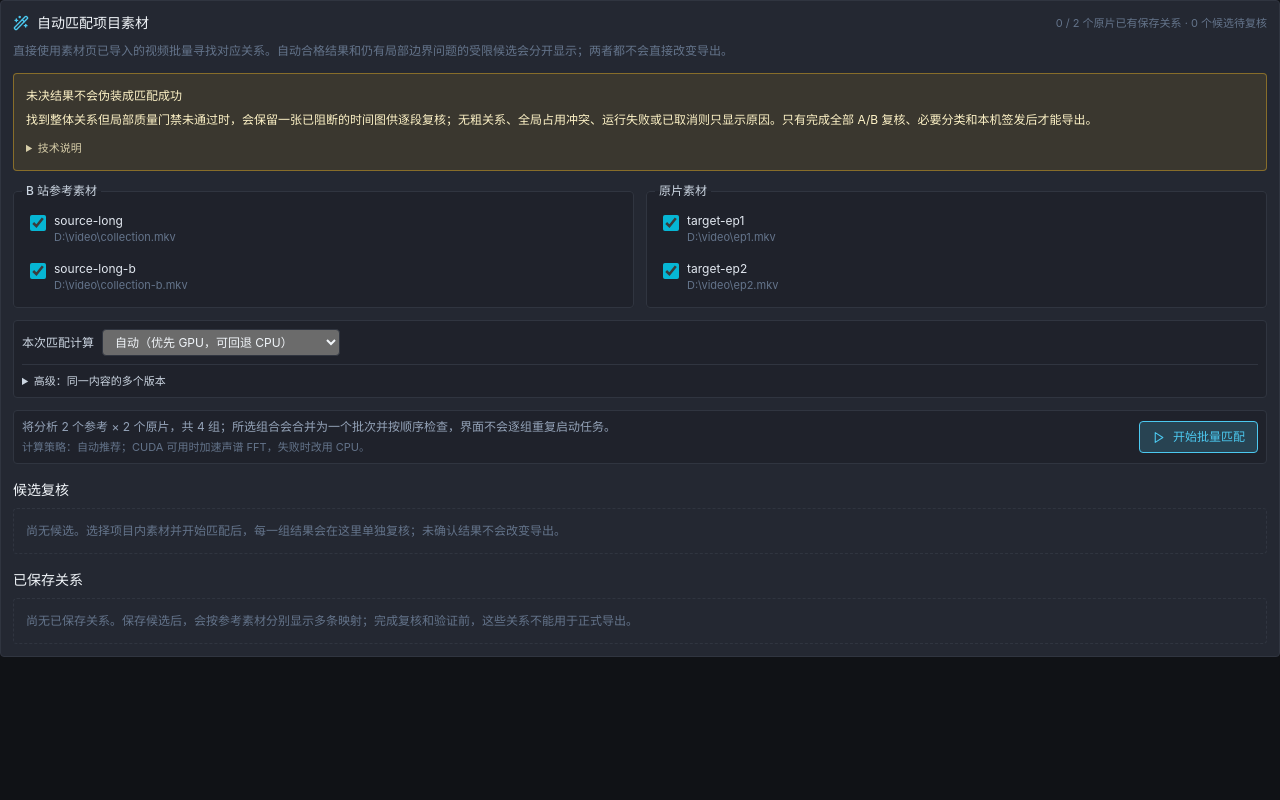
Test: 多媒体自动匹配工作台 › 组件中有一组运行失败时不发布同组件的任何候选
expect the text "共 4 组" is shown: met, box [22,419,616,455]
Click the button "开始批量匹配": (1198, 437) [1139,421,1258,453]
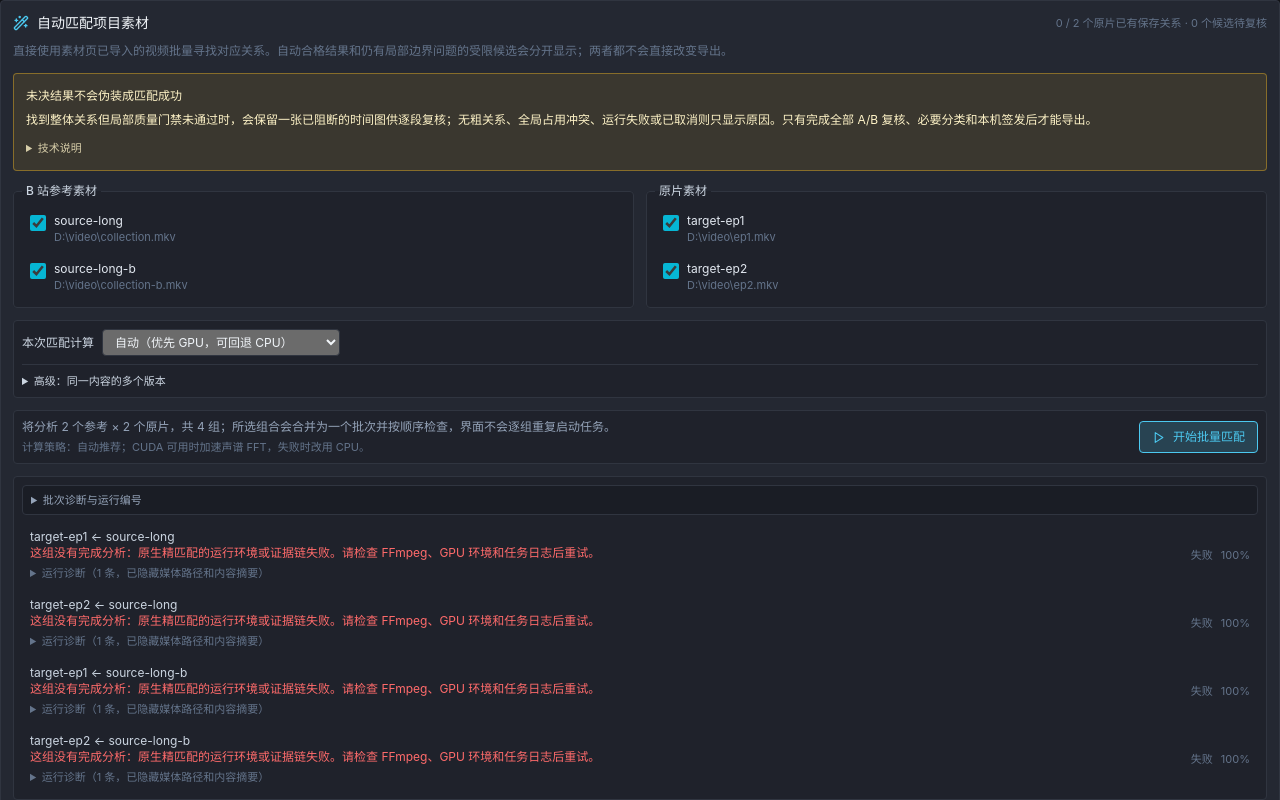
expect the text "这组没有完成分析：原生精匹配的运行环境或证据链失败。请检查 FFmpeg、GPU 环境和任务日志后重试。" is shown 4 times: met, box [30,545,600,560]; [30,613,600,628]; [30,681,600,696]; [30,749,600,764]
